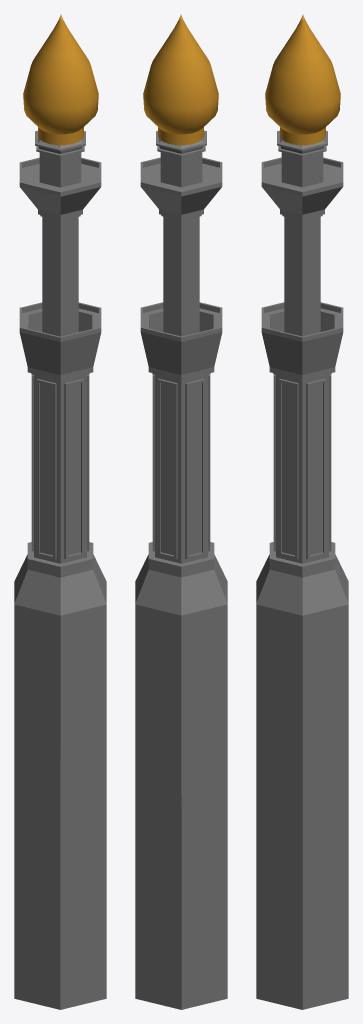
The model's file is SM_minaret_03.fbx.
The picture shows the model from 3 angles, left to right: view 1: azimuth 30°, elevation 25°; view 2: azimuth 210°, elevation 25°; view 3: azimuth 330°, elevation 25°; orthographic projection.
Visible parts, largest first — view 1: Cylinder051; view 2: Cylinder051; view 3: Cylinder051.
Part boxes in pixels (bbox=[...]): Cylinder051: bbox=[14, 14, 106, 1009]; Cylinder051: bbox=[135, 14, 227, 1009]; Cylinder051: bbox=[256, 14, 348, 1009].
Size of the model in its own units: 61.04 by 52.86 by 613.
